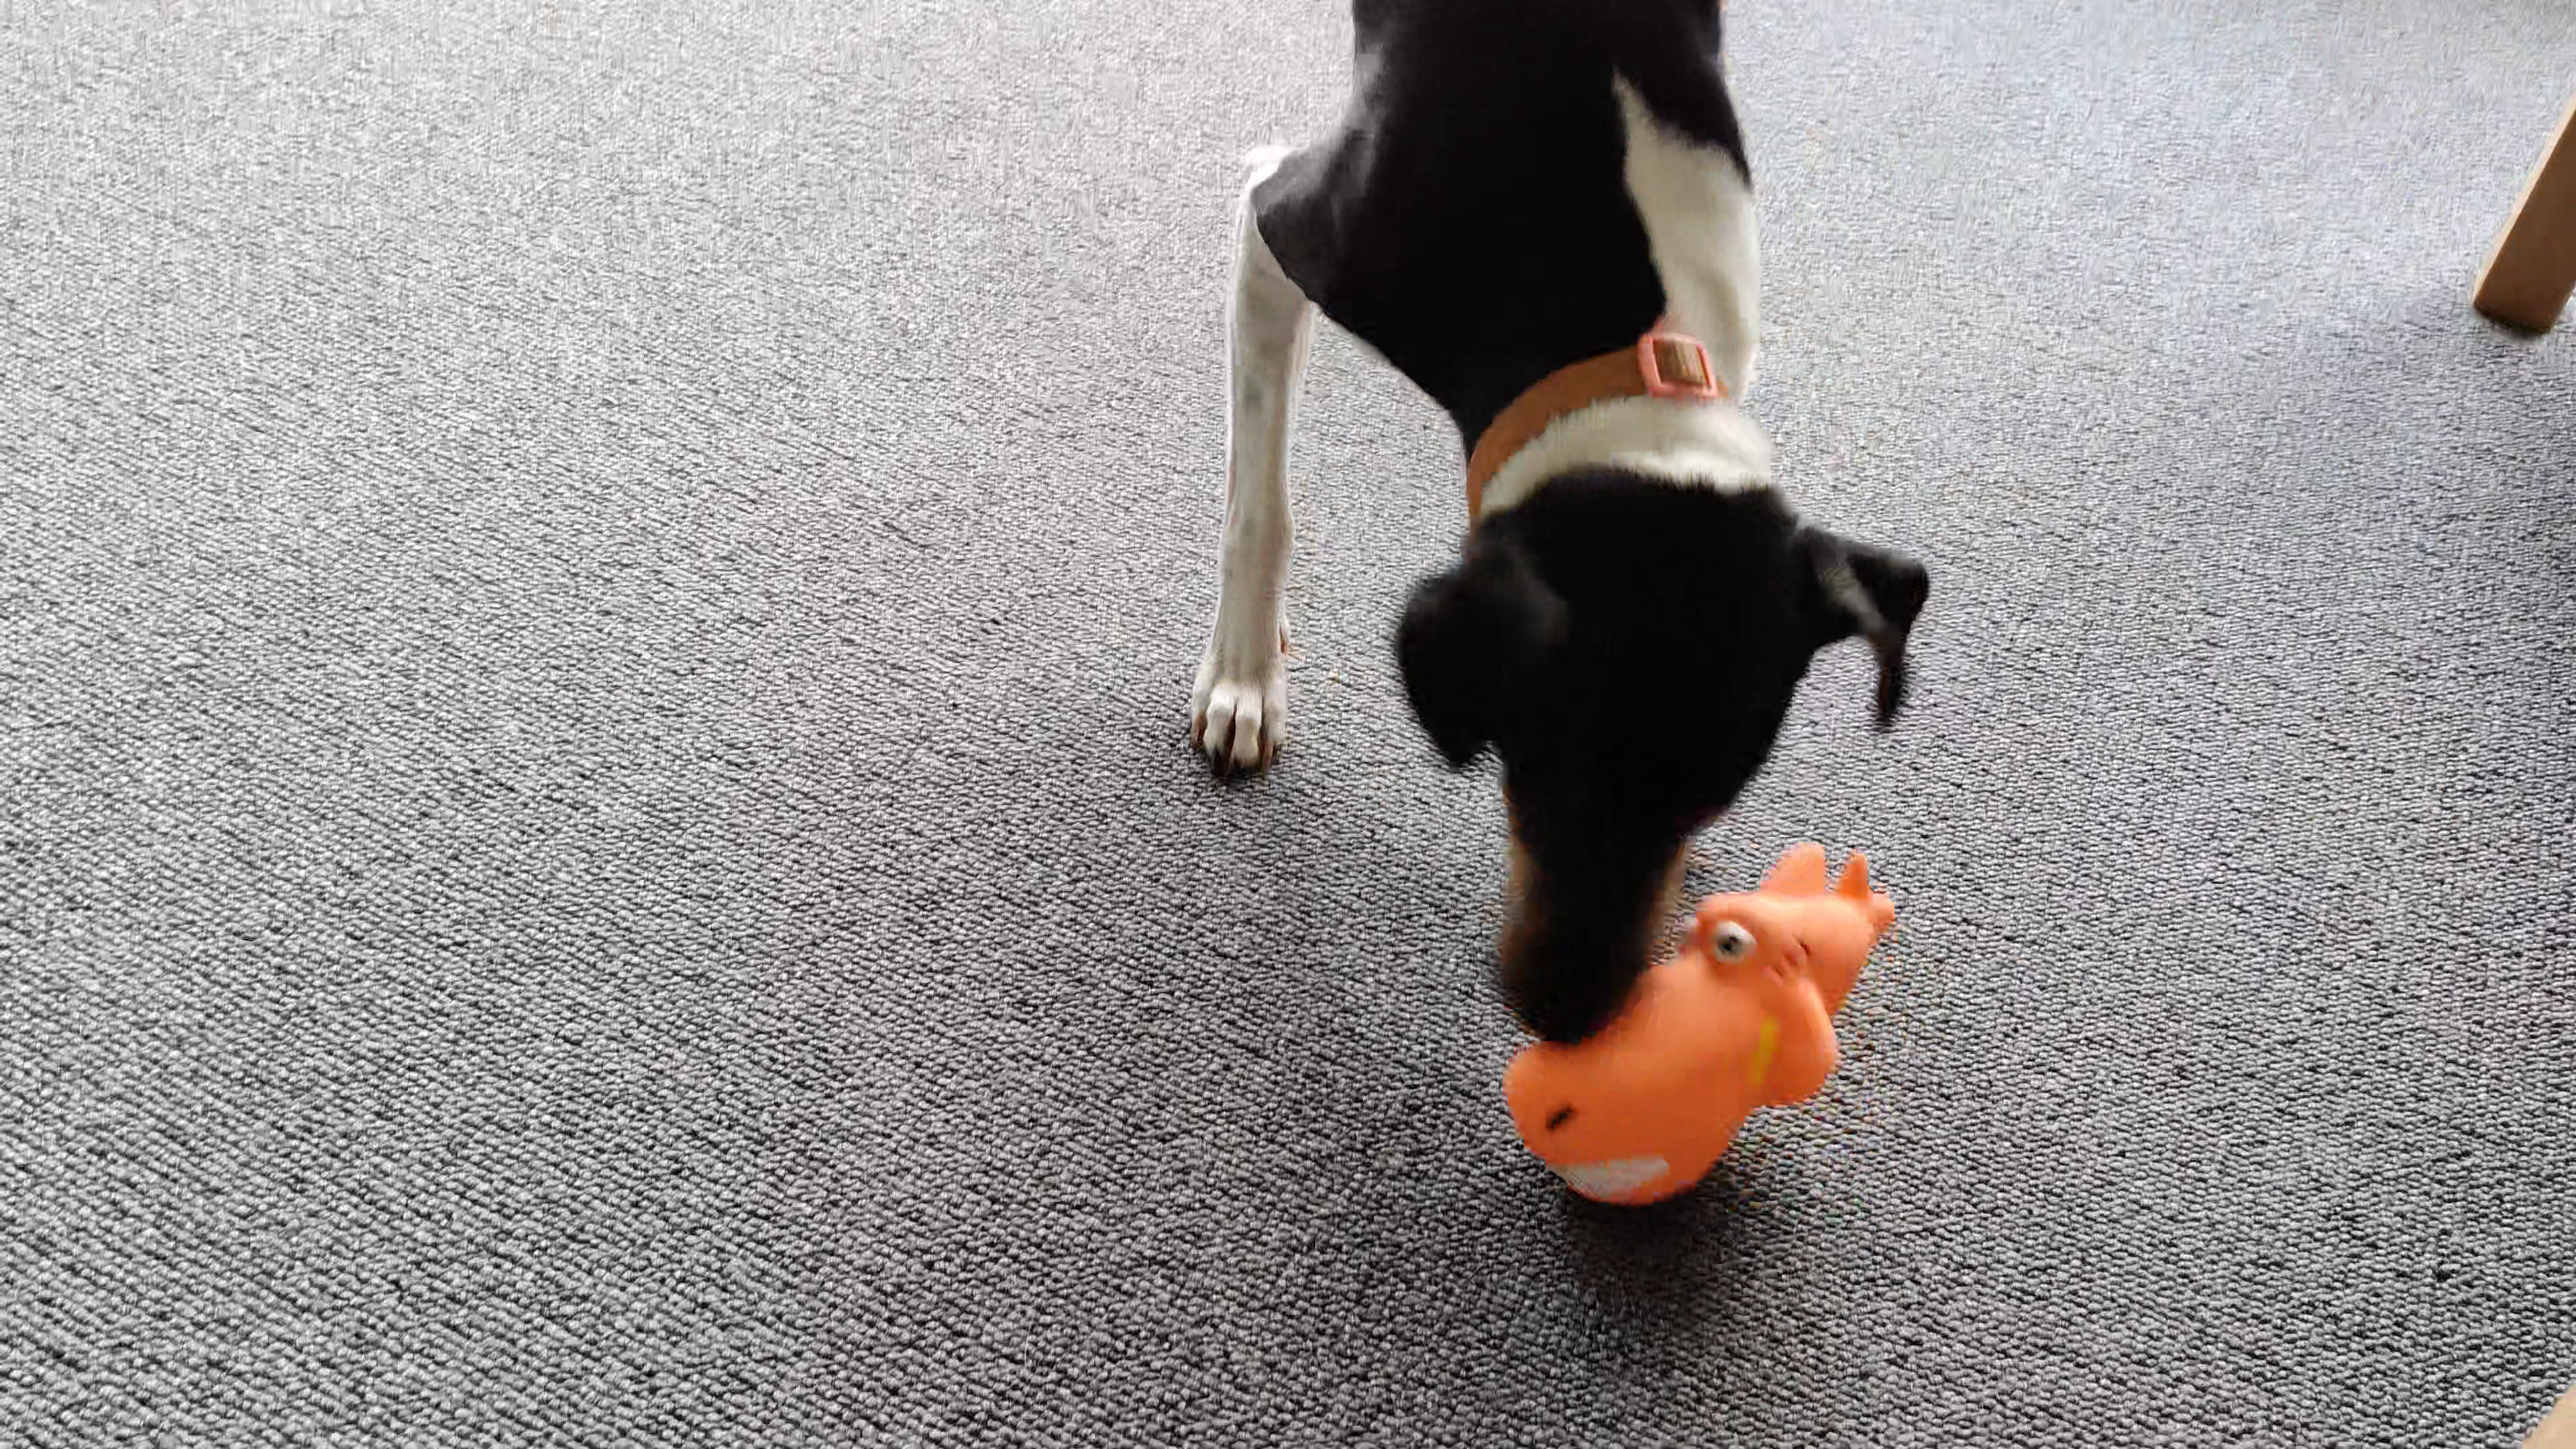Dog: (1146, 0, 1989, 1070)
